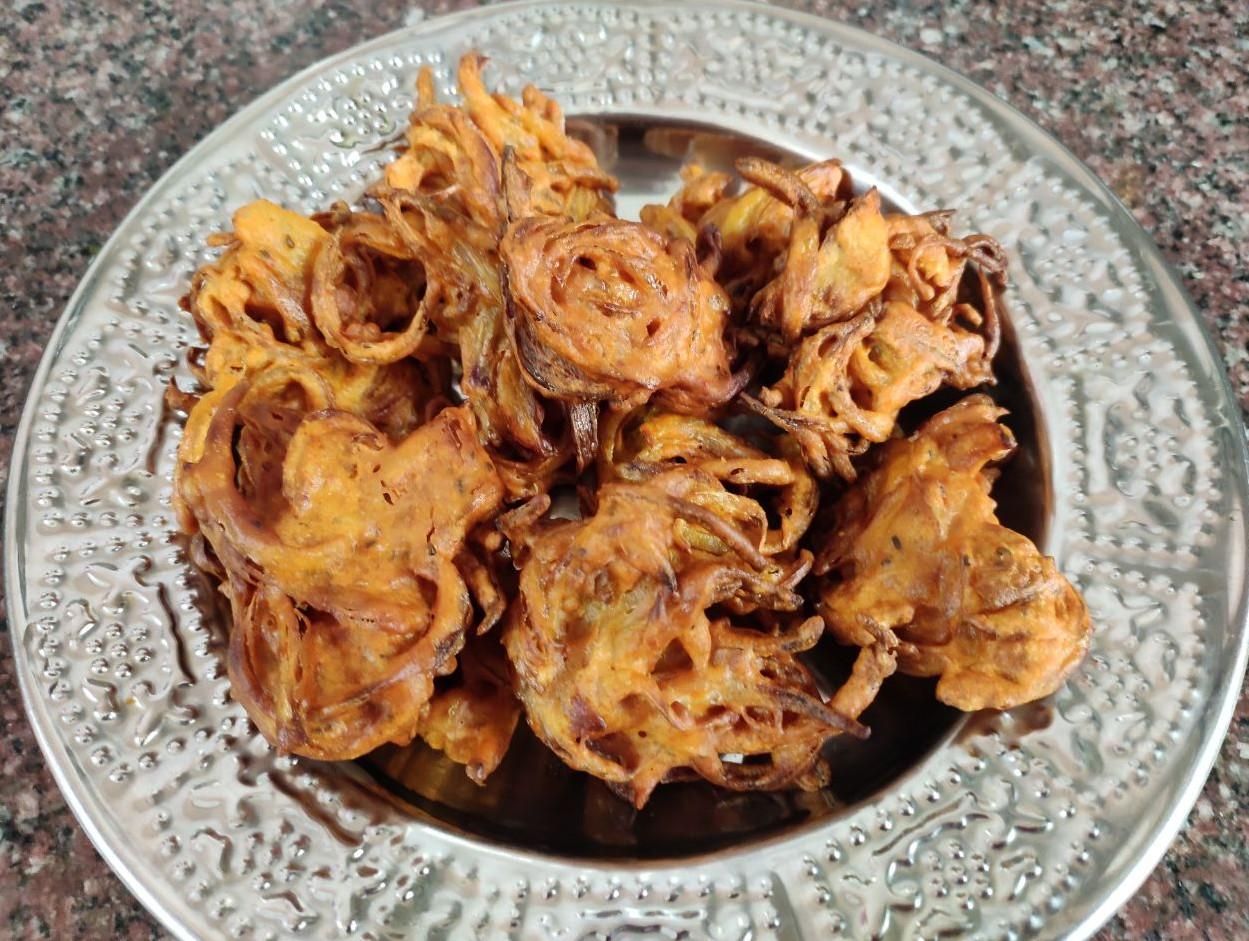OnionPakoda: (158, 54, 1094, 807)
